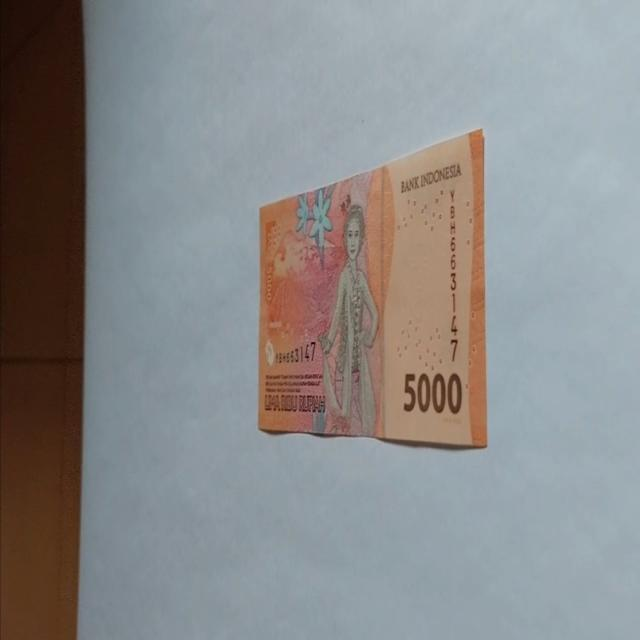lima ribu rupiah: (257, 127, 487, 449), (316, 202, 380, 436)
